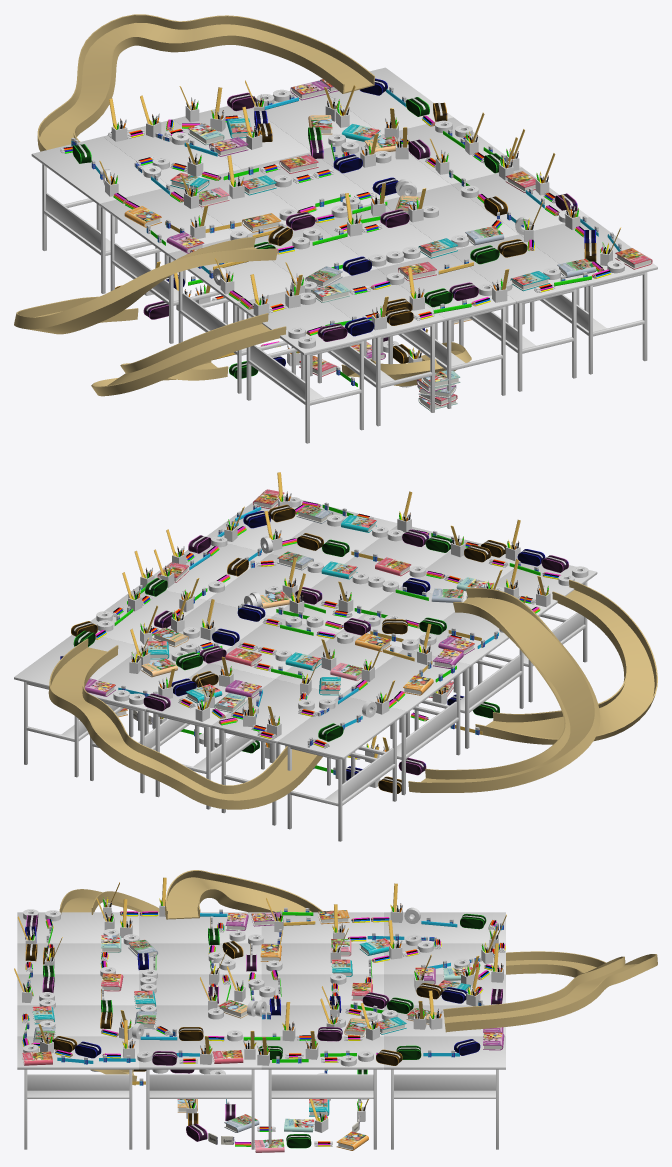
File: revisi_track_1.fbx
3 renders of one model, top to bottom at view 1: azimuth 30°, elevation 25°; view 2: azimuth 150°, elevation 25°; view 3: azimuth 270°, elevation 25°, orthographic. The views are drawn at different scales.
Parts seen in each view (by area): view 1: Meja, Plane.008, Plane.004, Plane.007, Plane.005; view 2: Meja, Plane.004, Plane.008, Plane.007; view 3: Meja, Plane.008, Plane.004, Plane.007.
Boxes of the visible parts, x1,y1,x2,y2 form: Meja: (31,67,657,443); Plane.008: (37,14,374,151); Plane.004: (14,236,277,334); Plane.007: (91,313,286,396); Plane.005: (341,342,471,386); Meja: (14,495,597,841); Plane.004: (408,588,600,792); Plane.008: (48,638,322,809); Plane.007: (475,579,657,744); Meja: (17,912,505,1149); Plane.008: (443,951,657,1032); Plane.004: (165,870,322,919); Plane.007: (59,889,159,914).
Size of the model in its own units: 420 by 111 by 527.
